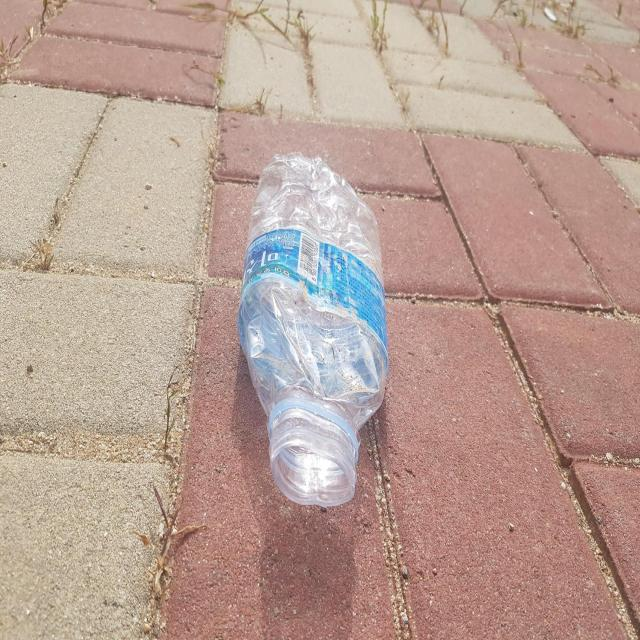plastic: (238, 152, 389, 506)
